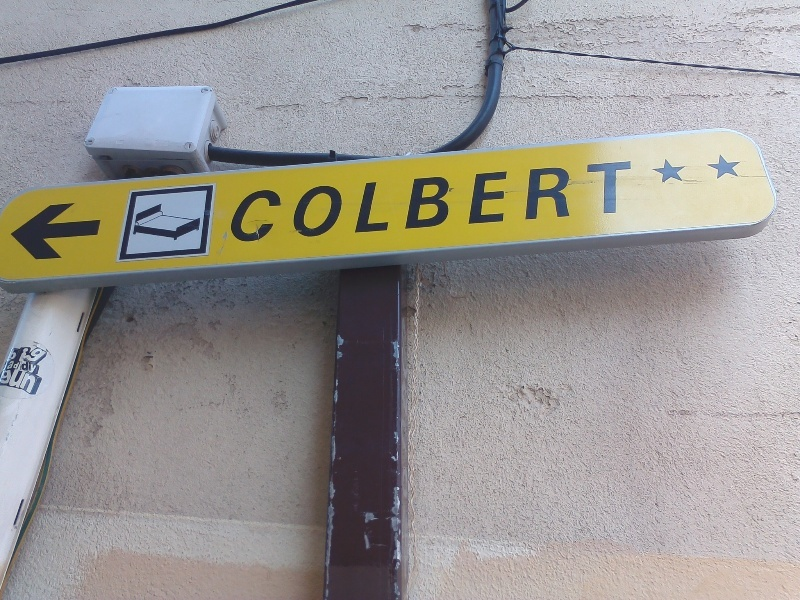text: (241, 157, 256, 245), (257, 157, 272, 245), (273, 157, 288, 245), (289, 157, 304, 245), (305, 157, 320, 245), (321, 157, 336, 245), (337, 157, 352, 245), (353, 157, 368, 245), (369, 157, 384, 245), (385, 157, 400, 245), (401, 157, 416, 245), (417, 157, 432, 245), (433, 157, 448, 245), (449, 157, 464, 245), (465, 157, 480, 245), (481, 157, 496, 245), (497, 157, 512, 245), (513, 157, 528, 245), (529, 157, 544, 245), (545, 157, 560, 245), (561, 157, 576, 245), (577, 157, 592, 245), (593, 157, 608, 245), (609, 157, 624, 245), (625, 157, 640, 245), (235, 157, 240, 245), (17, 369, 32, 396), (2, 369, 16, 396), (17, 347, 32, 365), (33, 347, 48, 365), (33, 369, 42, 396), (17, 361, 32, 376), (8, 361, 16, 376), (33, 361, 41, 376), (641, 157, 642, 245), (13, 347, 16, 365), (49, 347, 52, 365)
